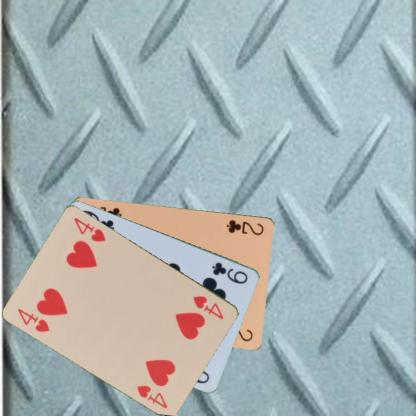2c: (224, 217, 265, 237)
4h: (15, 306, 51, 333), (191, 293, 225, 321)
9c: (209, 259, 250, 285)
